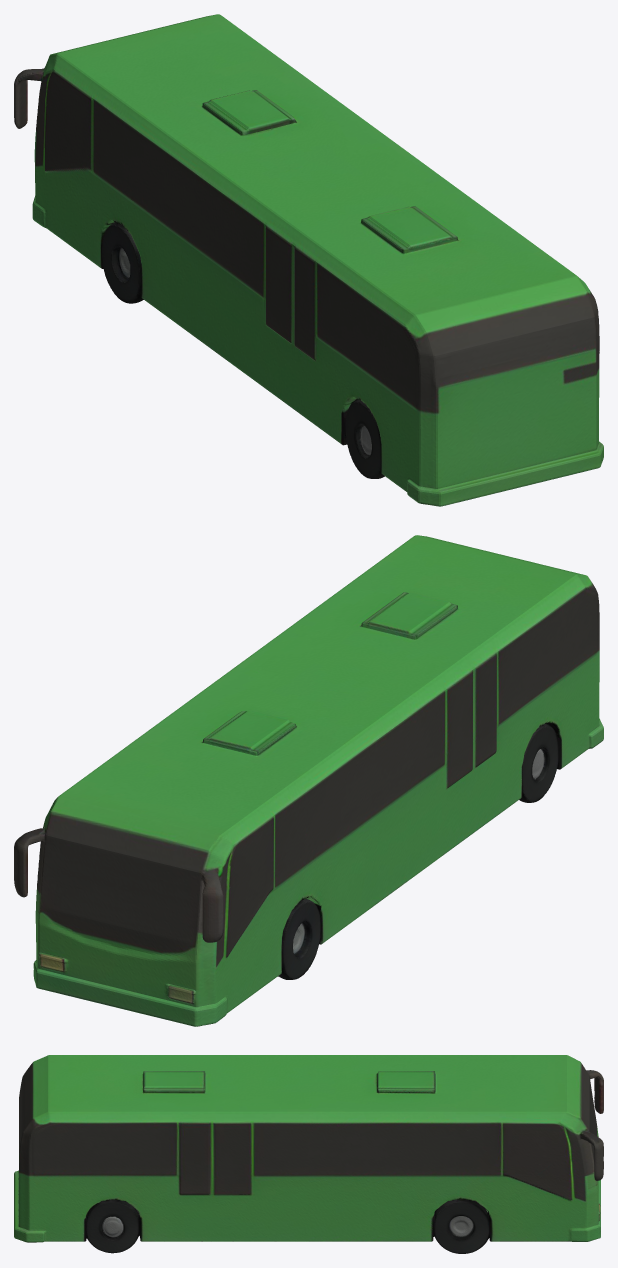
The picture shows the model from 3 angles, top to bottom: view 1: azimuth 30°, elevation 25°; view 2: azimuth 150°, elevation 25°; view 3: azimuth 270°, elevation 25°; orthographic projection. The views are drawn at different scales.
Visible parts, largest first — view 1: tripo_node_fdfa8c50-1b5b-4296-ab54-17641efb53fb; view 2: tripo_node_fdfa8c50-1b5b-4296-ab54-17641efb53fb; view 3: tripo_node_fdfa8c50-1b5b-4296-ab54-17641efb53fb.
Part boxes in pixels (<box>): tripo_node_fdfa8c50-1b5b-4296-ab54-17641efb53fb: <box>14,14,603,506</box>; tripo_node_fdfa8c50-1b5b-4296-ab54-17641efb53fb: <box>14,535,603,1026</box>; tripo_node_fdfa8c50-1b5b-4296-ab54-17641efb53fb: <box>14,1055,603,1253</box>.
Size of the model in its own units: 29.58 by 26.99 by 100.
